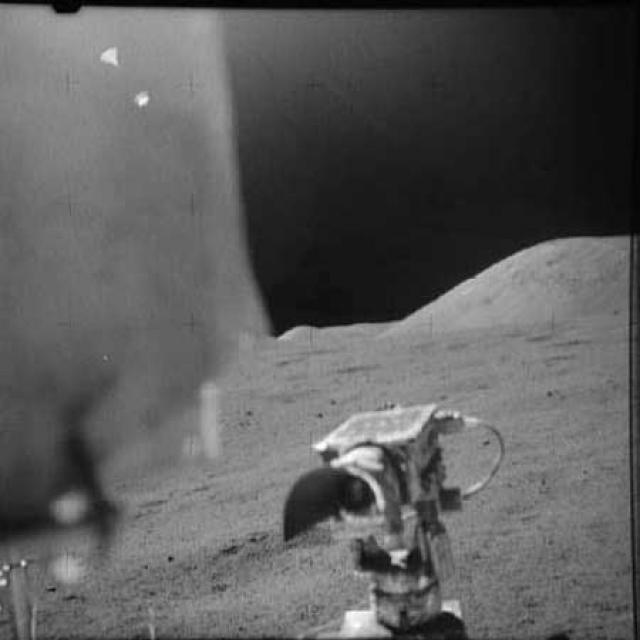artifact: (0, 0, 269, 639), (280, 396, 521, 638)
crater: (329, 356, 393, 382)
